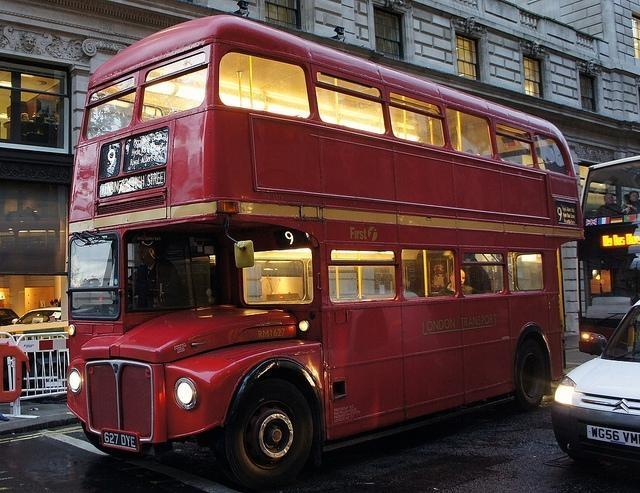bus: (66, 13, 594, 483), (578, 154, 640, 358)
car: (550, 299, 640, 469), (12, 309, 63, 324)
